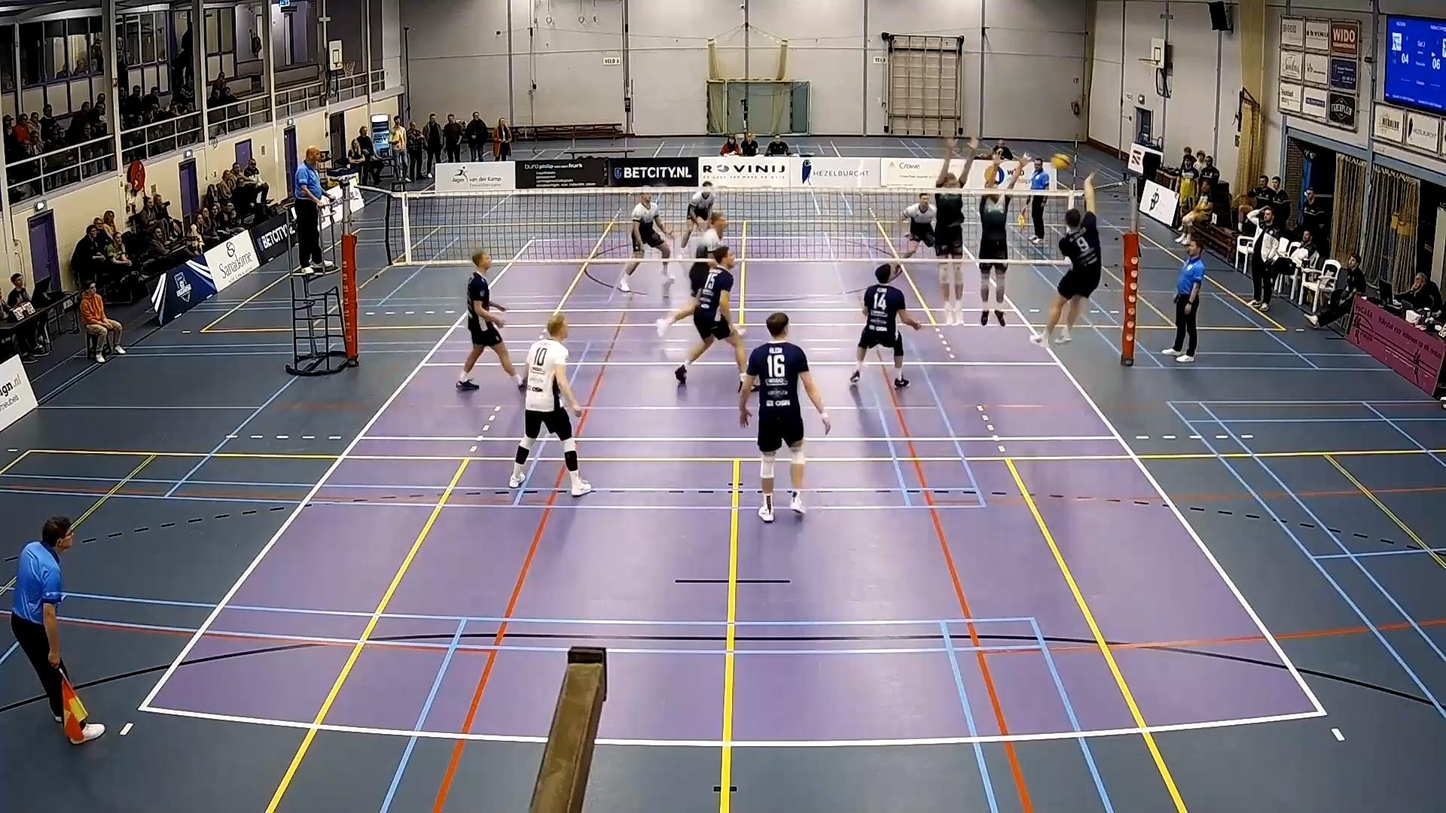Attack: (1028, 174, 1109, 352)
Block: (919, 142, 979, 324), (978, 139, 1029, 334)
Player: (740, 313, 831, 522), (509, 313, 590, 496), (675, 245, 745, 385), (456, 251, 523, 390), (656, 212, 727, 337), (850, 263, 921, 388), (618, 192, 673, 295), (680, 181, 715, 251), (899, 193, 936, 258)
ball: (1049, 153, 1073, 168)
